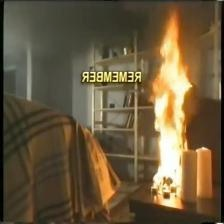fire: (145, 0, 200, 182)
